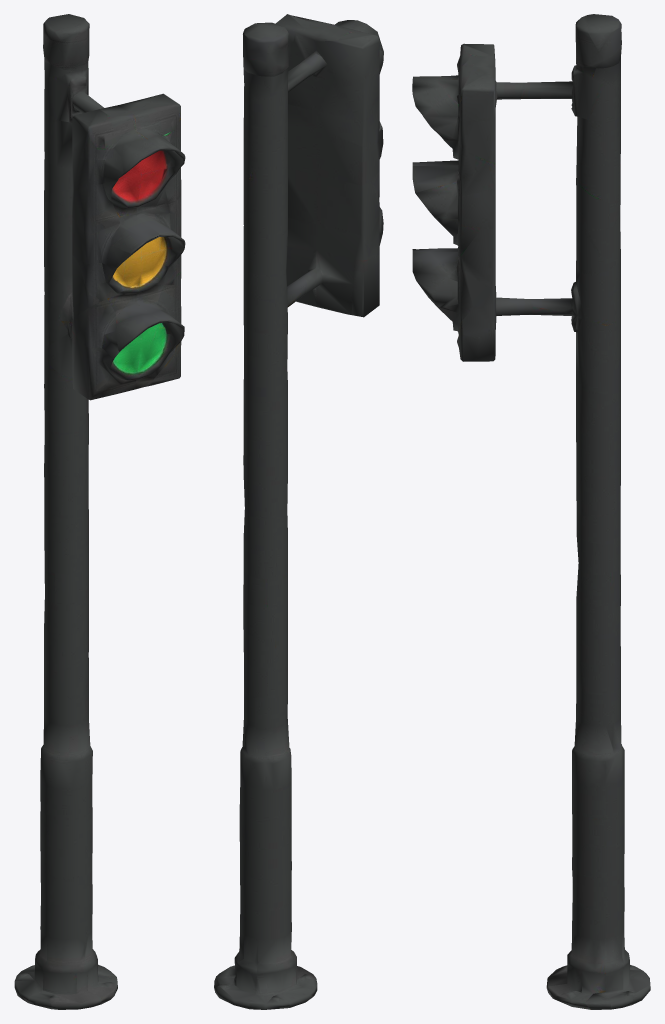
File: tsignal_lod1.glb
The picture shows the model from 3 angles, left to right: view 1: azimuth 30°, elevation 25°; view 2: azimuth 150°, elevation 25°; view 3: azimuth 270°, elevation 25°; orthographic projection.
Parts seen in each view (by area): view 1: mesh_node; view 2: mesh_node; view 3: mesh_node.
Part boxes in pixels (<box>): mesh_node: <box>14,14,185,1009</box>; mesh_node: <box>214,14,383,1009</box>; mesh_node: <box>412,14,650,1009</box>.
Bounding box in the file's own units: 0.194 × 1.9 × 0.4259.
Materials: 1 (1 with a texture image).
